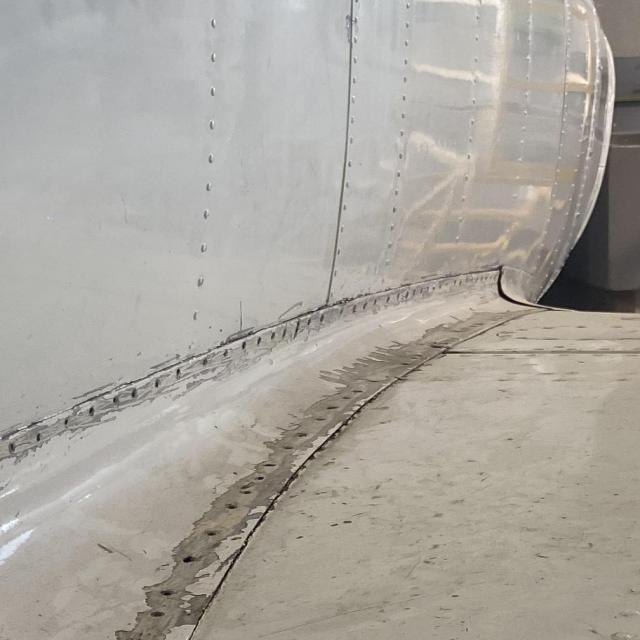Missing-head: (3, 441, 18, 457), (58, 416, 75, 430), (32, 431, 47, 446), (150, 377, 166, 391), (110, 396, 124, 412), (223, 500, 239, 514), (79, 404, 96, 417), (124, 390, 138, 404), (199, 530, 218, 540), (149, 610, 165, 620), (160, 590, 173, 600), (180, 557, 195, 565), (173, 369, 184, 378), (130, 640, 138, 640)
Paint-off: (340, 12, 357, 45)
Scratch: (67, 292, 562, 640), (0, 273, 429, 502), (74, 380, 121, 404), (226, 323, 258, 340), (277, 301, 305, 320)
